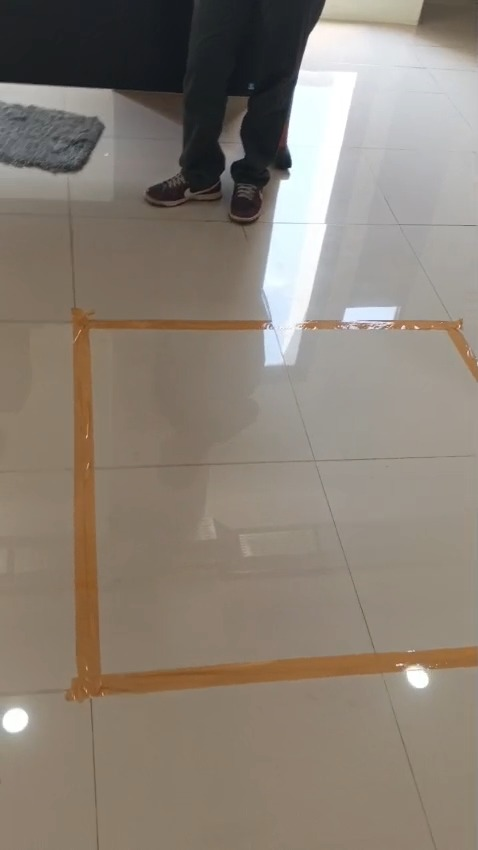floor marking: (68, 309, 477, 701), (291, 320, 477, 380)
